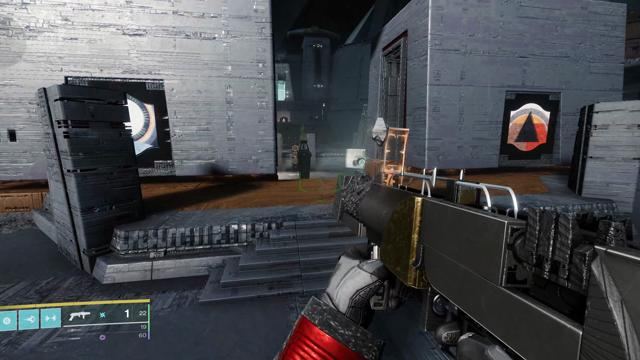pyramid: (507, 103, 551, 152)
traveler: (123, 94, 157, 155)
